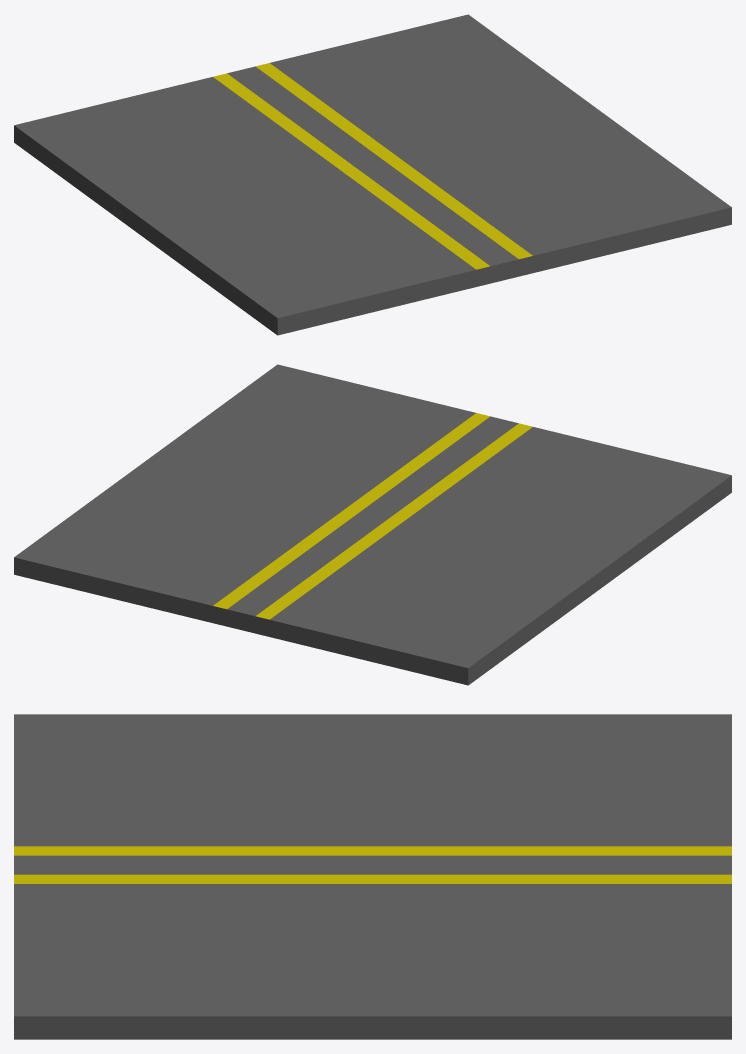
Rendered from Road.fbx.
3 renders of one model, top to bottom at view 1: azimuth 30°, elevation 25°; view 2: azimuth 150°, elevation 25°; view 3: azimuth 270°, elevation 25°, orthographic. The views are drawn at different scales.
Visible parts, largest first — view 1: Cube; view 2: Cube; view 3: Cube.
Part boxes in pixels (x1,y1,x2,y2): Cube: (14, 14, 731, 335); Cube: (14, 364, 731, 685); Cube: (14, 714, 731, 1039).
Size of the model in its own units: 593 by 21.6 by 596.
